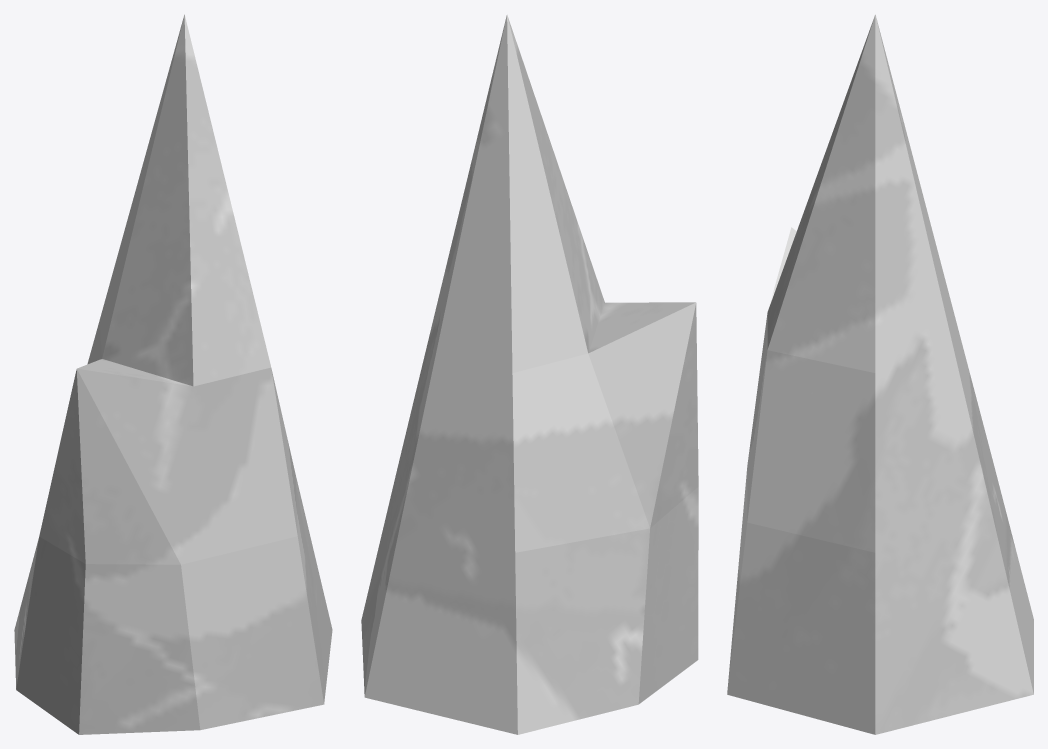
File: CristalShard1.fbx
3 renders of one model, left to right at view 1: azimuth 30°, elevation 25°; view 2: azimuth 150°, elevation 25°; view 3: azimuth 270°, elevation 25°, orthographic.
Parts seen in each view (by area): view 1: CristalShard1; view 2: CristalShard1; view 3: CristalShard1.
Boxes of the visible parts, x1,y1,x2,y2 form: CristalShard1: (14,14,332,734); CristalShard1: (361,14,698,734); CristalShard1: (727,14,1033,734).
Size of the model in its own units: 122 by 254 by 109.
